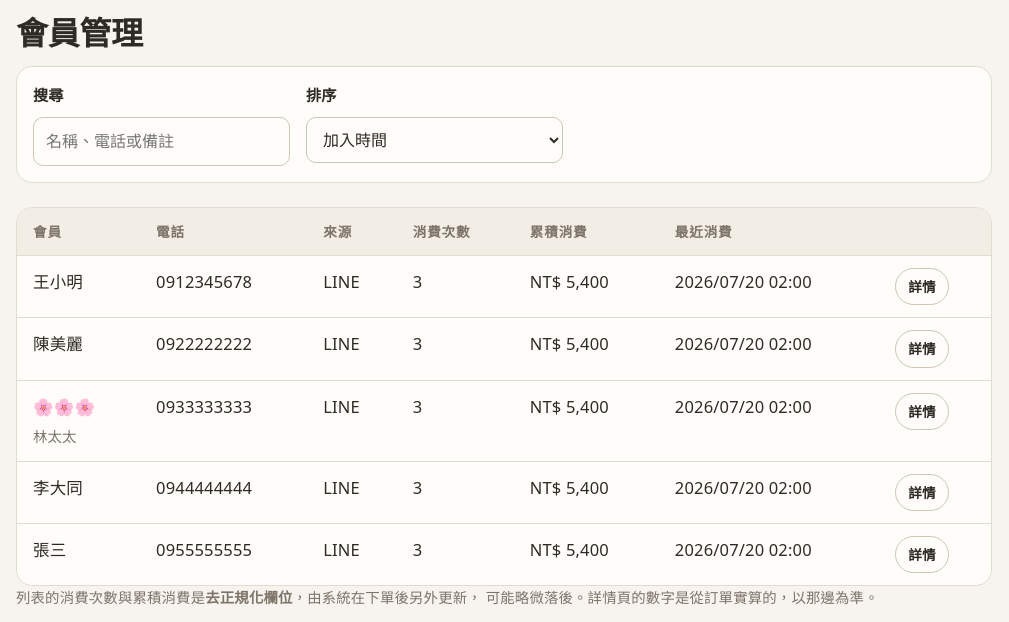
Test: AdminCustomersPage 的搜尋與排序 › 搜尋不到時顯示提示而不是空白表格
Expected: the text "王小明" is shown, [17, 256, 140, 318]
Type "不存在的人" into the field labelled "搜尋" at (162, 142), box [33, 117, 290, 166]
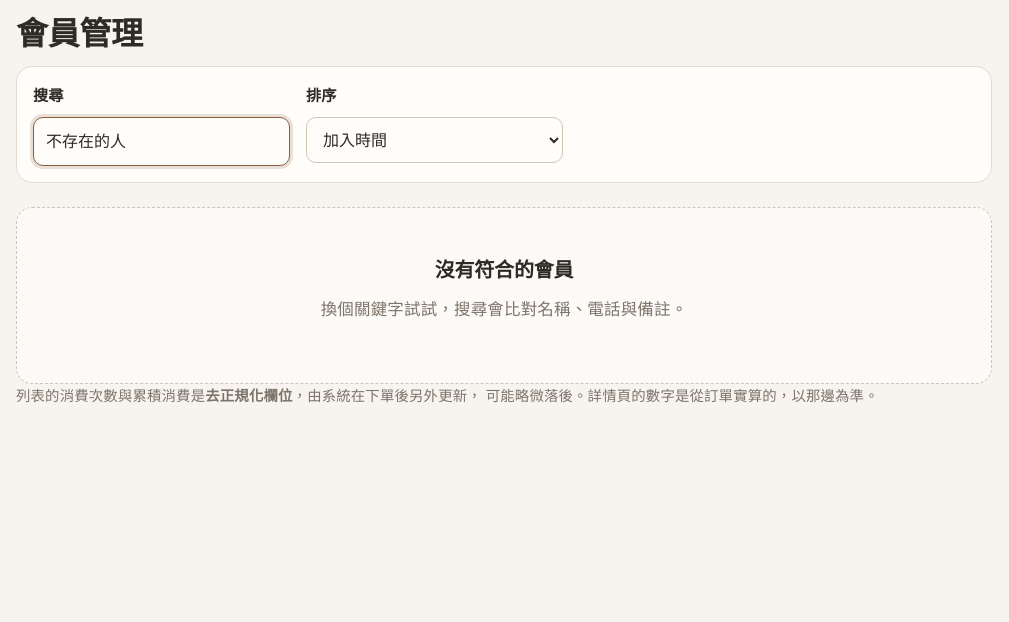
Expected: the heading "沒有符合的會員" is shown, [435, 256, 573, 283]
